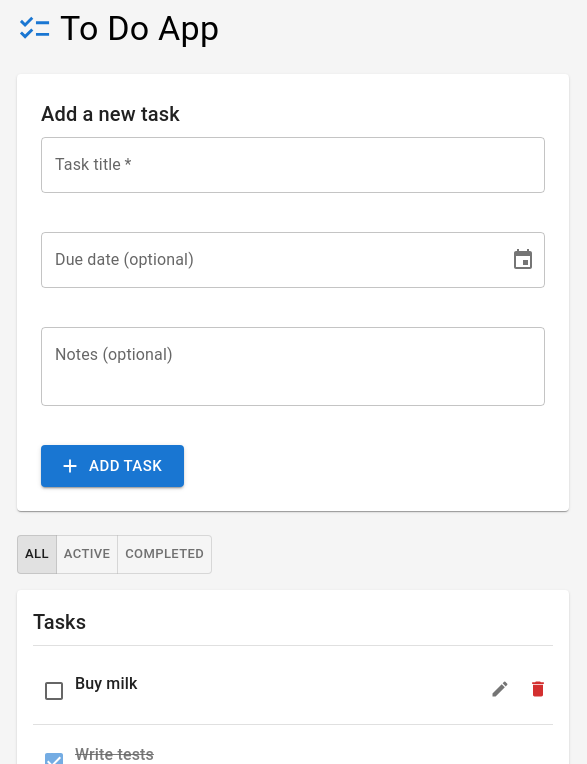
Test: App › filter Completed shows only completed tasks
Click the button with aria-label "show completed tasks" at coordinates (165, 554), box [117,535,212,574]
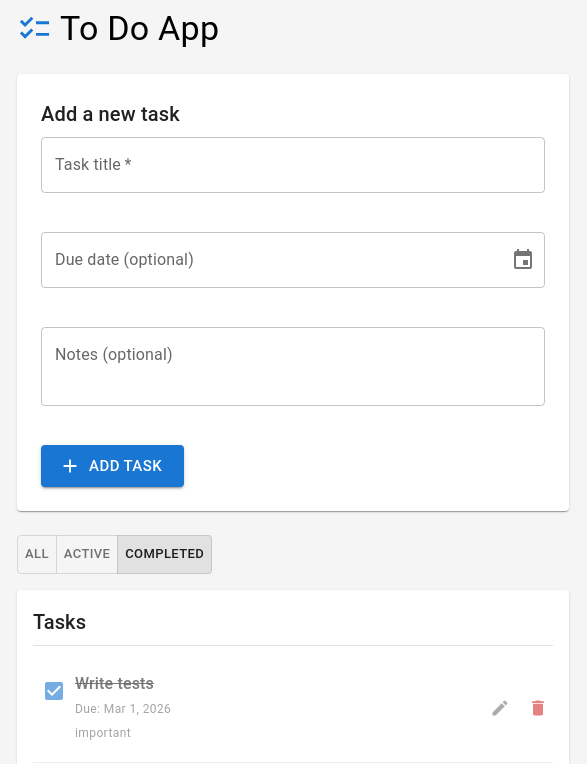
Expected: the text "Write tests" is shown, [75,674,154,693]
Result: the text "Buy milk" is gone
